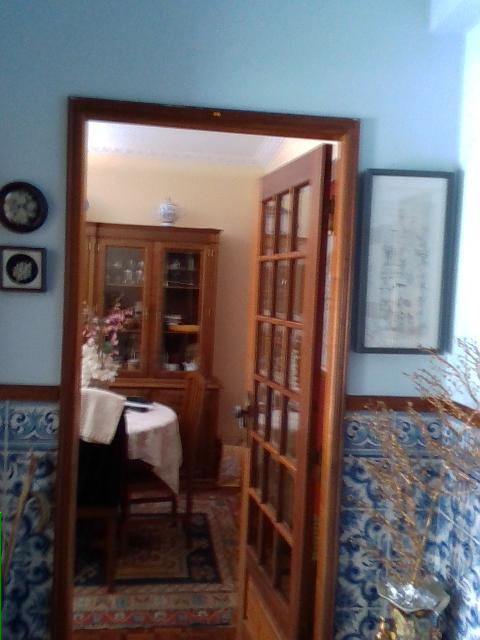door: (230, 142, 333, 640)
